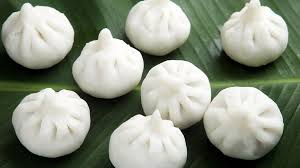modak: (202, 80, 289, 160), (9, 83, 98, 151), (69, 23, 145, 96), (214, 1, 296, 67), (138, 54, 213, 126), (1, 1, 74, 69), (113, 1, 201, 55), (109, 111, 181, 168)
